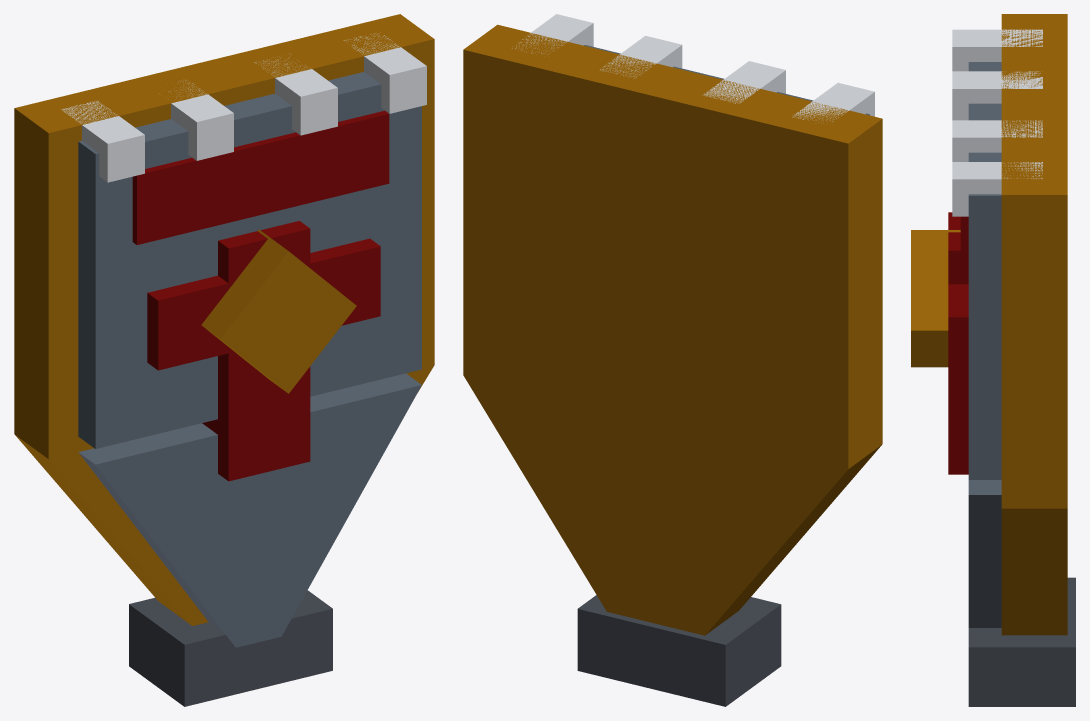
File: EscudoImperial_low.fbx
3 renders of one model, left to right at view 1: azimuth 30°, elevation 25°; view 2: azimuth 150°, elevation 25°; view 3: azimuth 270°, elevation 25°, orthographic. The views are drawn at different scales.
Visible parts, largest first — view 1: EscudoImperial_low; view 2: EscudoImperial_low; view 3: EscudoImperial_low.
Boxes of the visible parts, x1,y1,x2,y2 form: EscudoImperial_low: (14, 14, 434, 706); EscudoImperial_low: (463, 14, 882, 706); EscudoImperial_low: (911, 14, 1075, 706).
Size of the model in its own units: 52 by 76 by 20.
